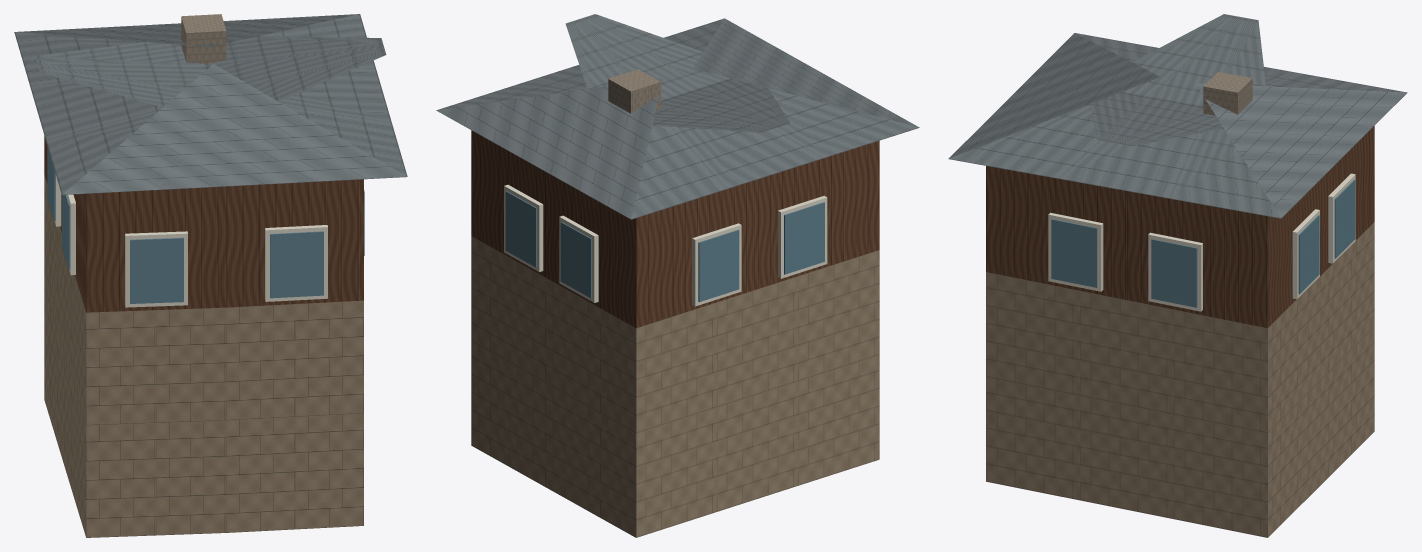
Rendered from core_0142.gltf.
The picture shows the model from 3 angles, left to right: view 1: azimuth 30°, elevation 25°; view 2: azimuth 150°, elevation 25°; view 3: azimuth 270°, elevation 25°; orthographic projection. The views are drawn at different scales.
Visible parts, largest first — view 1: core_0142; view 2: core_0142; view 3: core_0142.
Boxes of the visible parts, x1,y1,x2,y2 form: core_0142: (14, 14, 407, 537); core_0142: (436, 14, 919, 537); core_0142: (948, 14, 1407, 537).
Size of the model in its own units: 8.73 by 8.45 by 9.13.
Materials: 6 (6 with a texture image).
